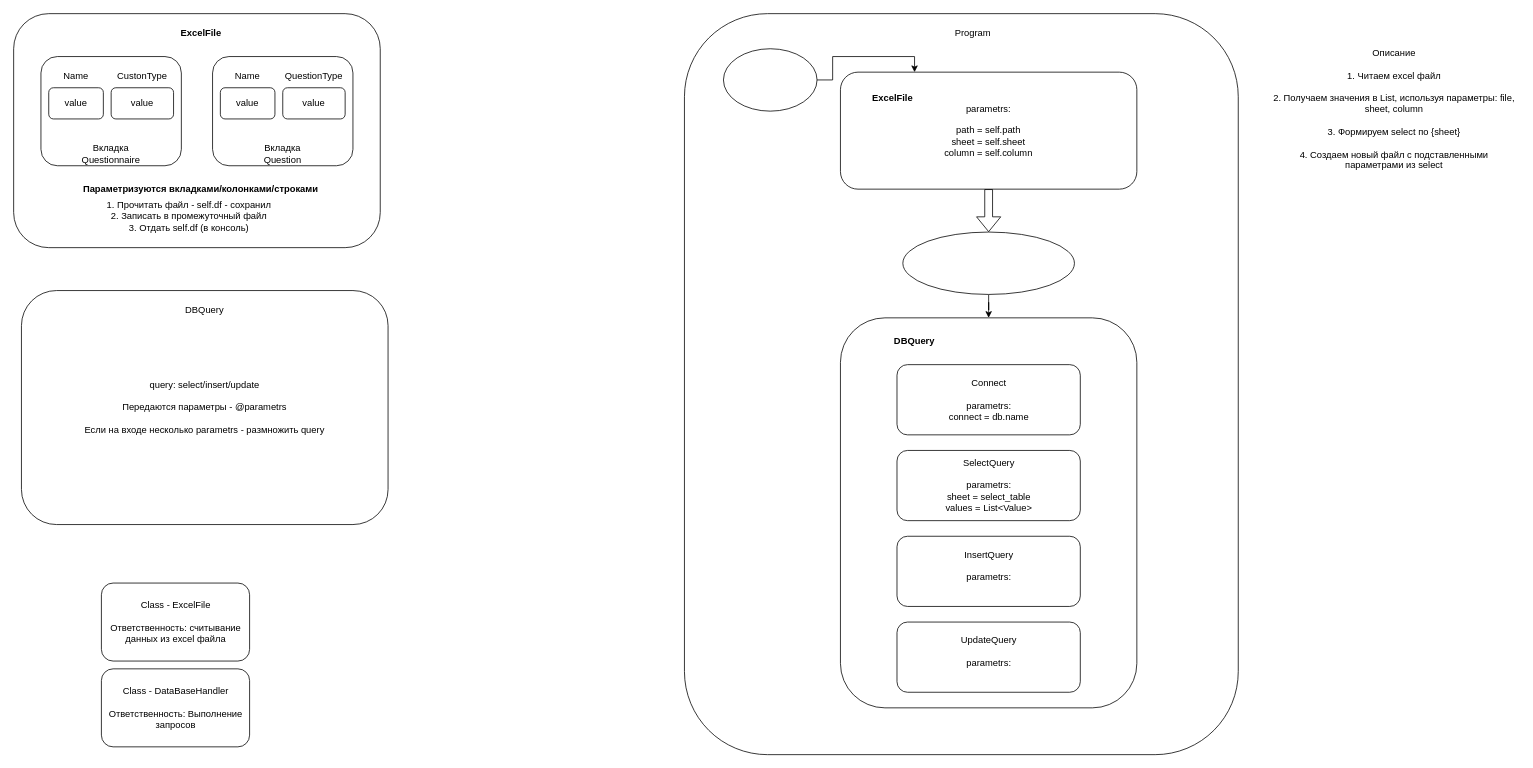
This 1533x768 diagram has some shape labels left out. Each missing label, with the centre of its shape:
"file.xlsx" belongs at pixel 770 79.
"return List<Value>" belongs at pixel 988 262.
